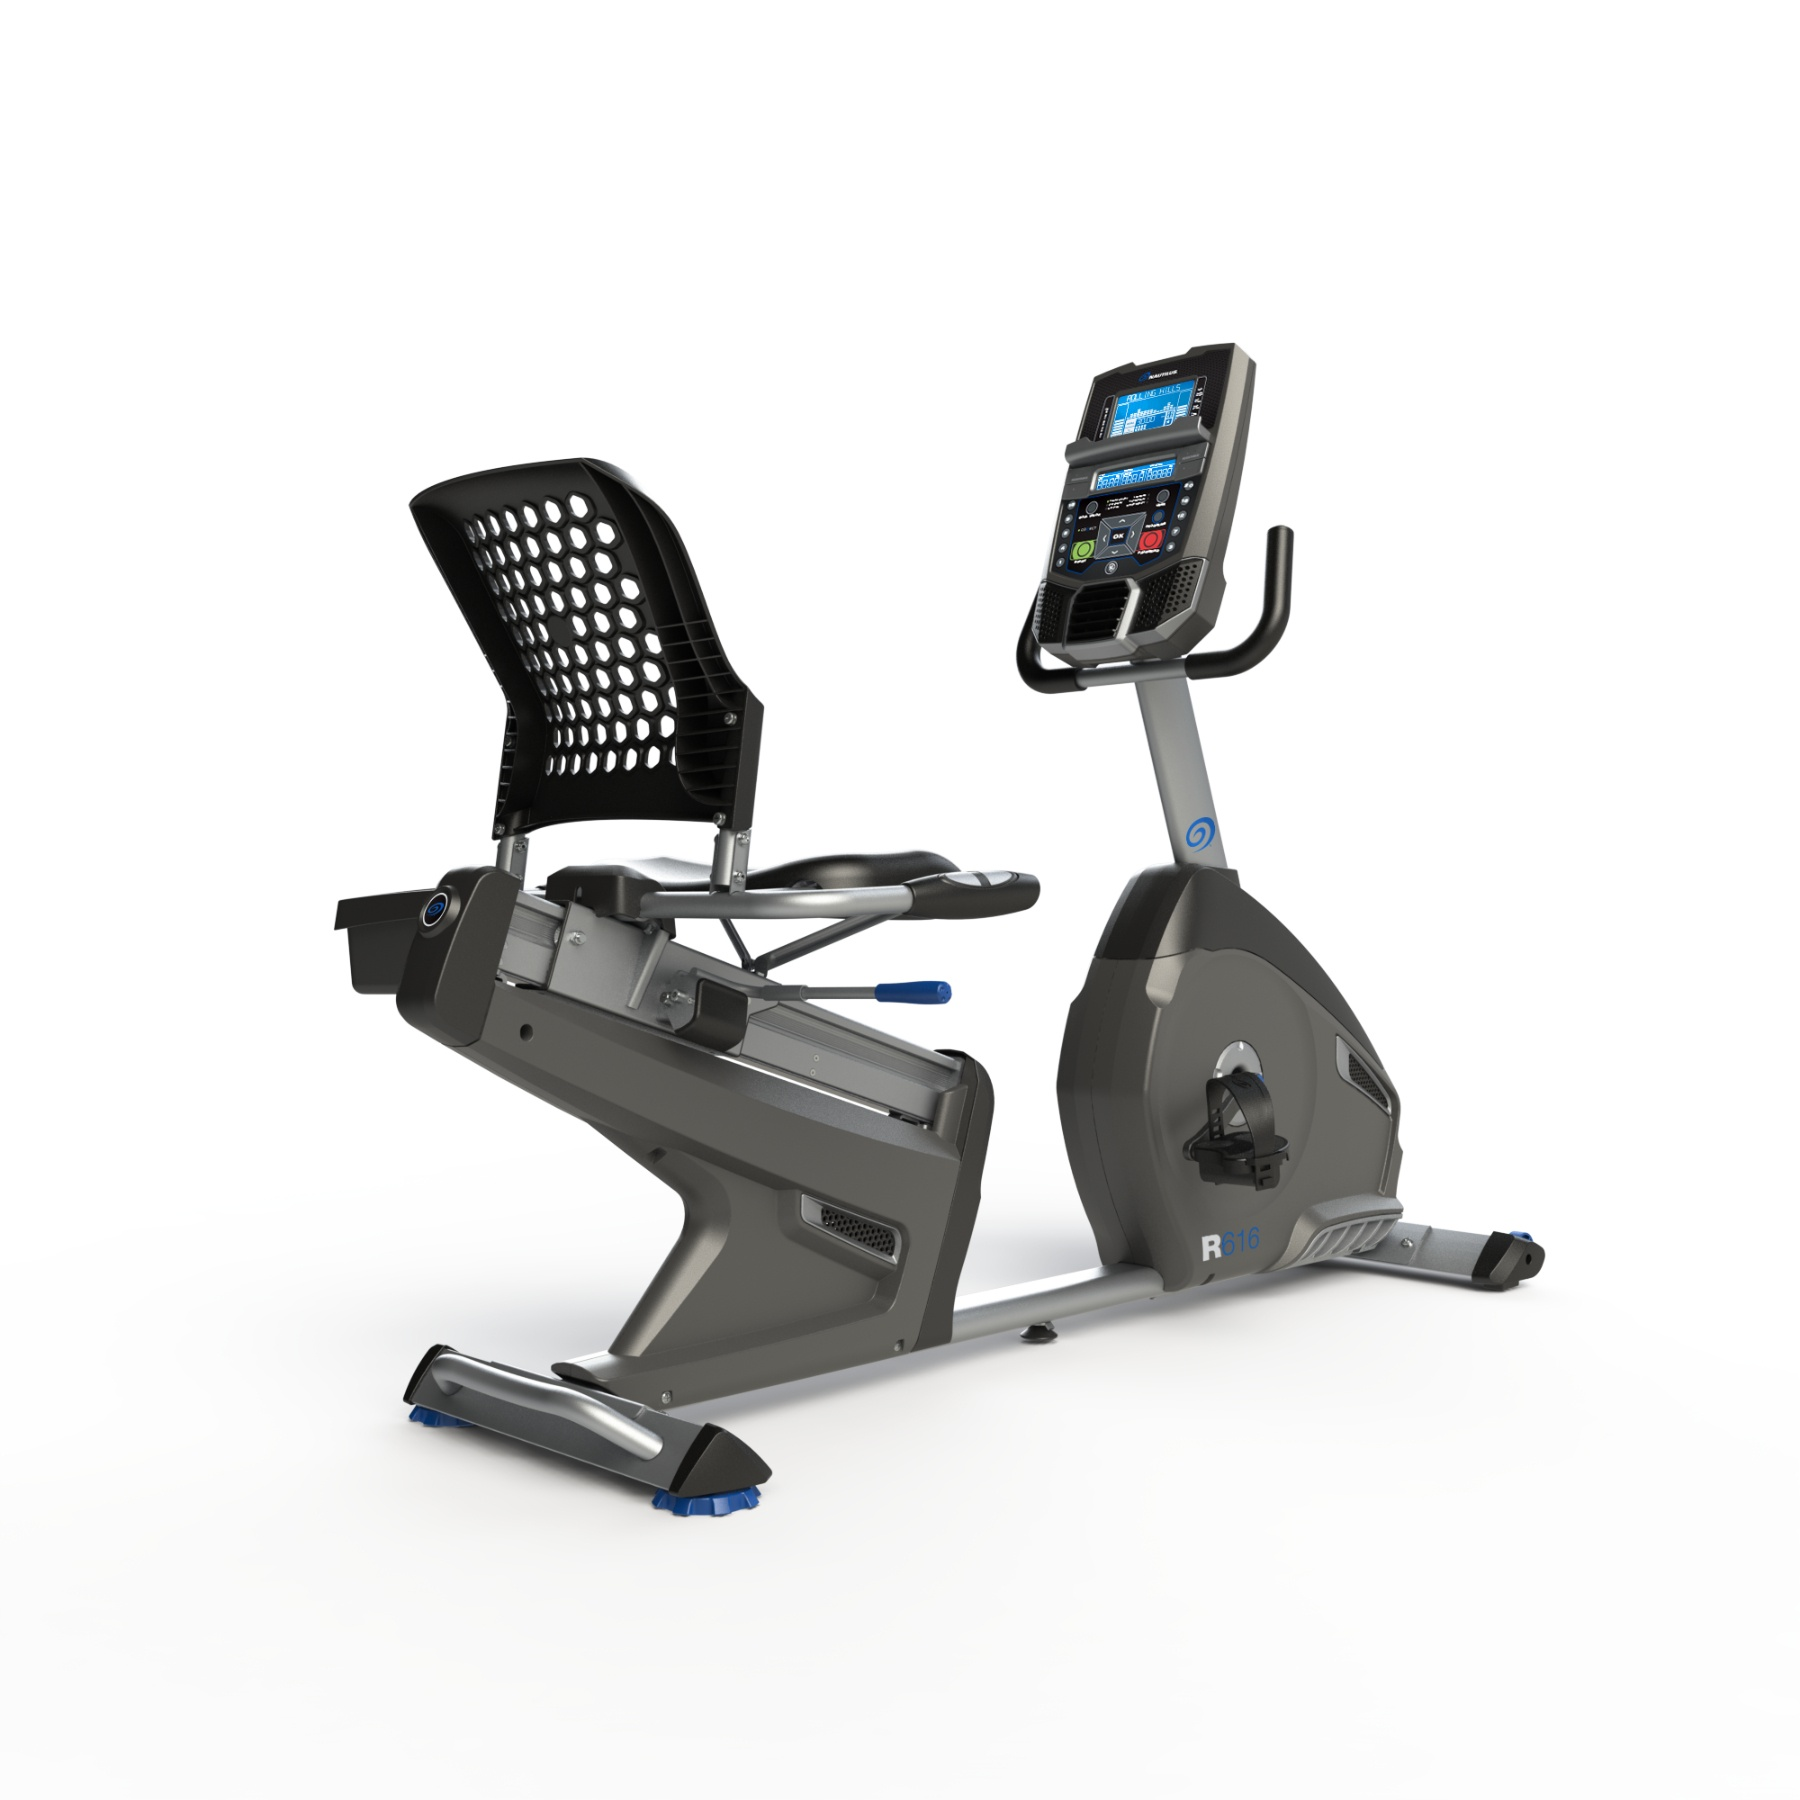gym_bike: (292, 284, 1592, 1500)
